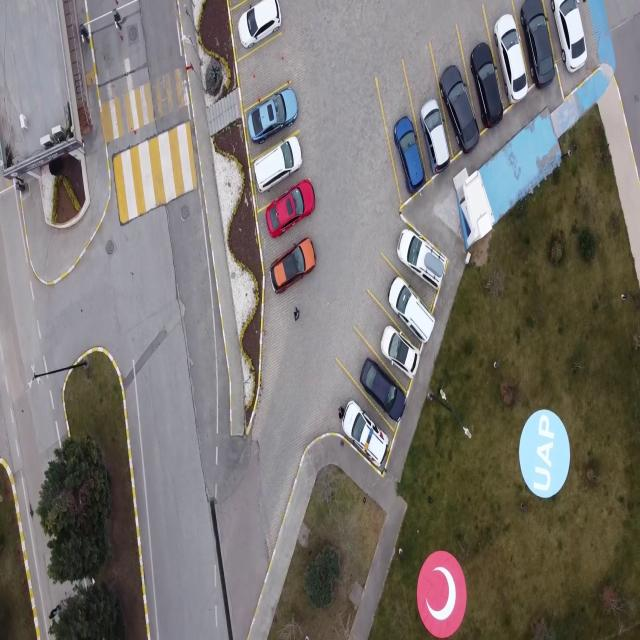people: (338, 406, 345, 418), (294, 308, 300, 322)
